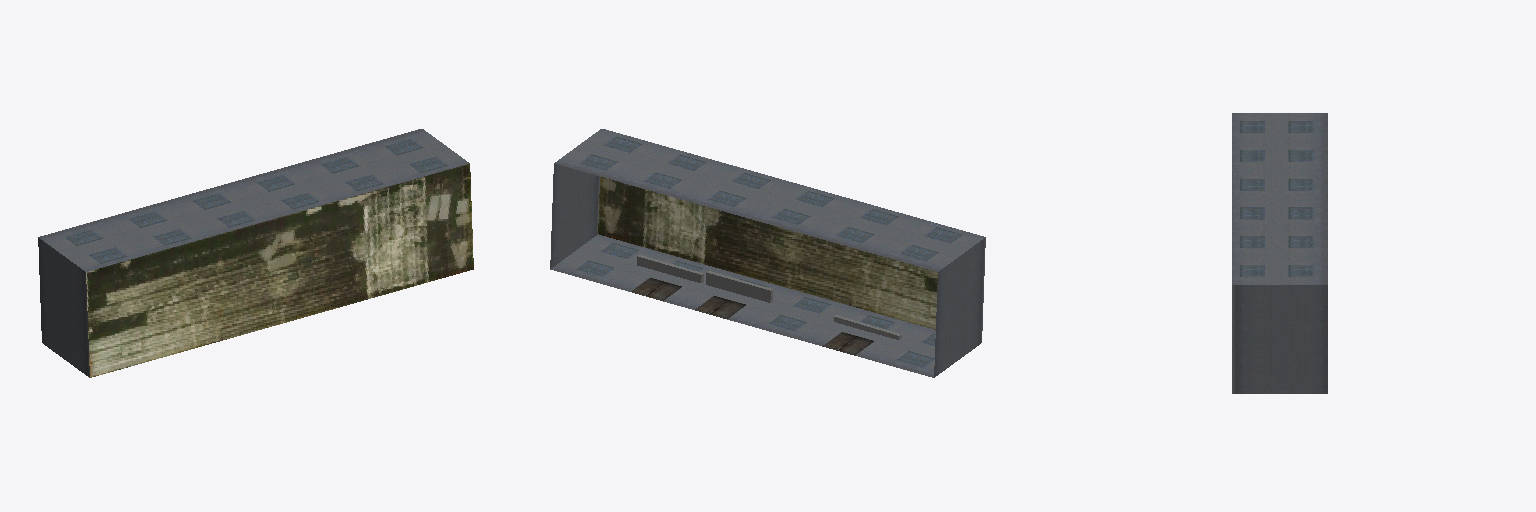
The picture shows the model from 3 angles: view 1: azimuth 30°, elevation 25°; view 2: azimuth 150°, elevation 25°; view 3: azimuth 270°, elevation 25°; orthographic projection.
Visible parts, largest first — view 1: Group_MatrixTransform_i96175_Geometry_7, Group_MatrixTransform_i96175_Geometry_2, Group_MatrixTransform_i96175_Geometry_1; view 2: Group_MatrixTransform_i96175_Geometry_2, Group_MatrixTransform_i96175_Geometry_7, Group_MatrixTransform_i96175_Geometry_1, Group_MatrixTransform_i96175_Geometry_0, Group_MatrixTransform_i96175_Geometry_3; view 3: Group_MatrixTransform_i96175_Geometry_2, Group_MatrixTransform_i96175_Geometry_1.
Boxes of the visible parts, x1=… form: Group_MatrixTransform_i96175_Geometry_7: x1=86, y1=164, x2=473, y2=377; Group_MatrixTransform_i96175_Geometry_2: x1=39, y1=129, x2=469, y2=271; Group_MatrixTransform_i96175_Geometry_1: x1=38, y1=237, x2=89, y2=377; Group_MatrixTransform_i96175_Geometry_2: x1=550, y1=129, x2=984, y2=377; Group_MatrixTransform_i96175_Geometry_7: x1=598, y1=177, x2=937, y2=329; Group_MatrixTransform_i96175_Geometry_1: x1=550, y1=164, x2=985, y2=377; Group_MatrixTransform_i96175_Geometry_0: x1=614, y1=253, x2=916, y2=359; Group_MatrixTransform_i96175_Geometry_3: x1=637, y1=255, x2=901, y2=339; Group_MatrixTransform_i96175_Geometry_2: x1=1232, y1=113, x2=1327, y2=284; Group_MatrixTransform_i96175_Geometry_1: x1=1232, y1=285, x2=1327, y2=393.
Size of the model in its own units: 29.2 by 9.16 by 6.26.
Materials: 8 (8 with a texture image).